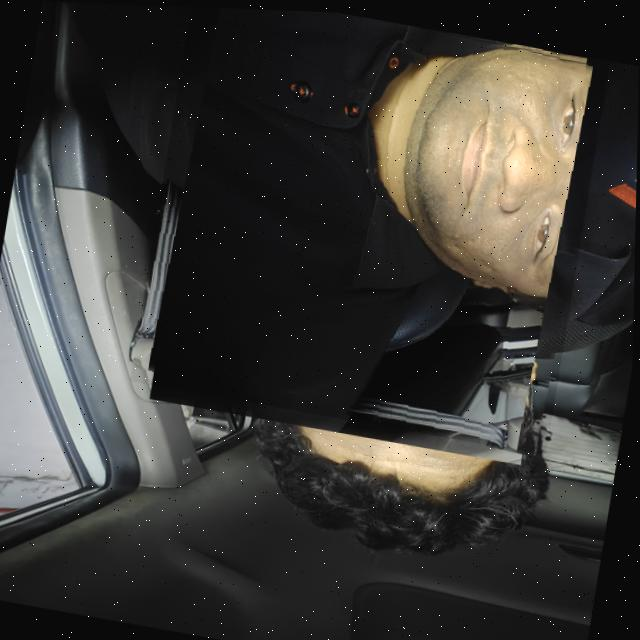no-seatbelt: (129, 4, 610, 452)
